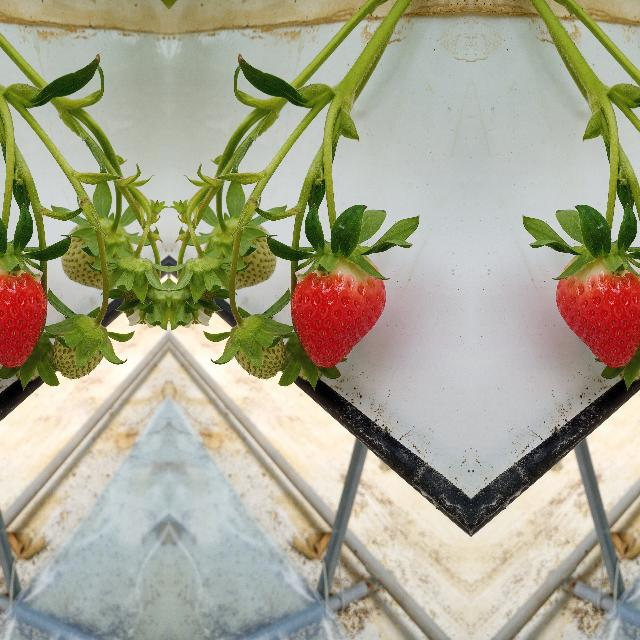Health_100: (290, 255, 386, 369), (555, 255, 640, 369), (0, 255, 46, 369)
Health_25: (59, 209, 134, 293), (202, 209, 276, 293), (220, 310, 288, 388), (48, 310, 115, 388)
